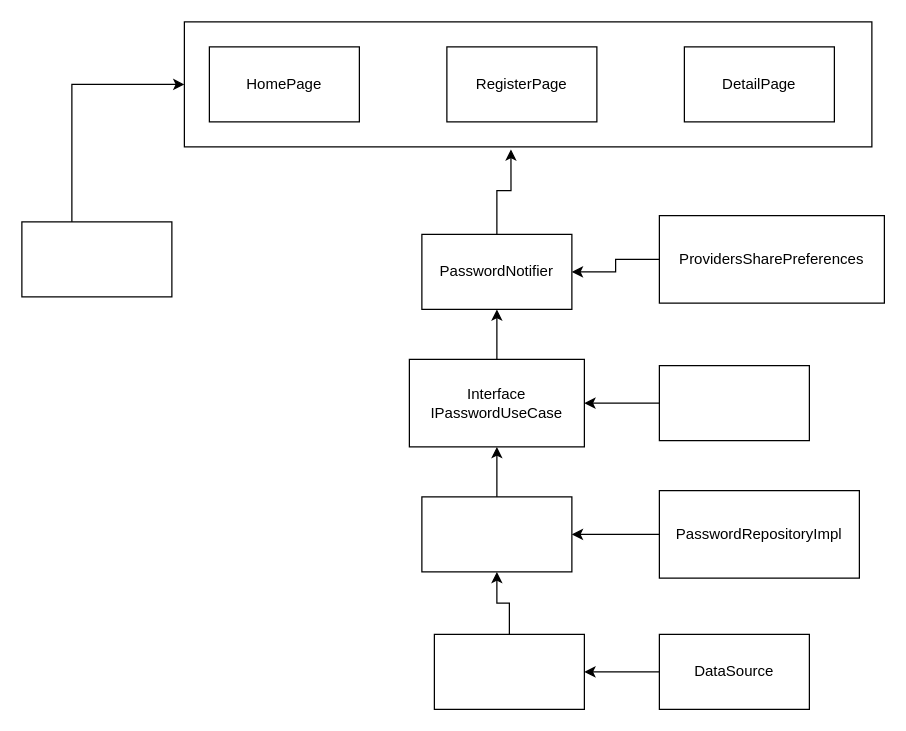
The diagram is 906 pixels wide and 731 high, and some of its shapes have lost their labels. The shapes that lost their labels are listed below. From the top down, each one's box as (x1, y1, x2, y2) in pixels, then its label:
(21, 221, 172, 297): Routes
(658, 364, 809, 441): PasswordUseCase
(421, 496, 572, 572): PasswordRepository
(433, 633, 584, 709): Interface IDataSource
